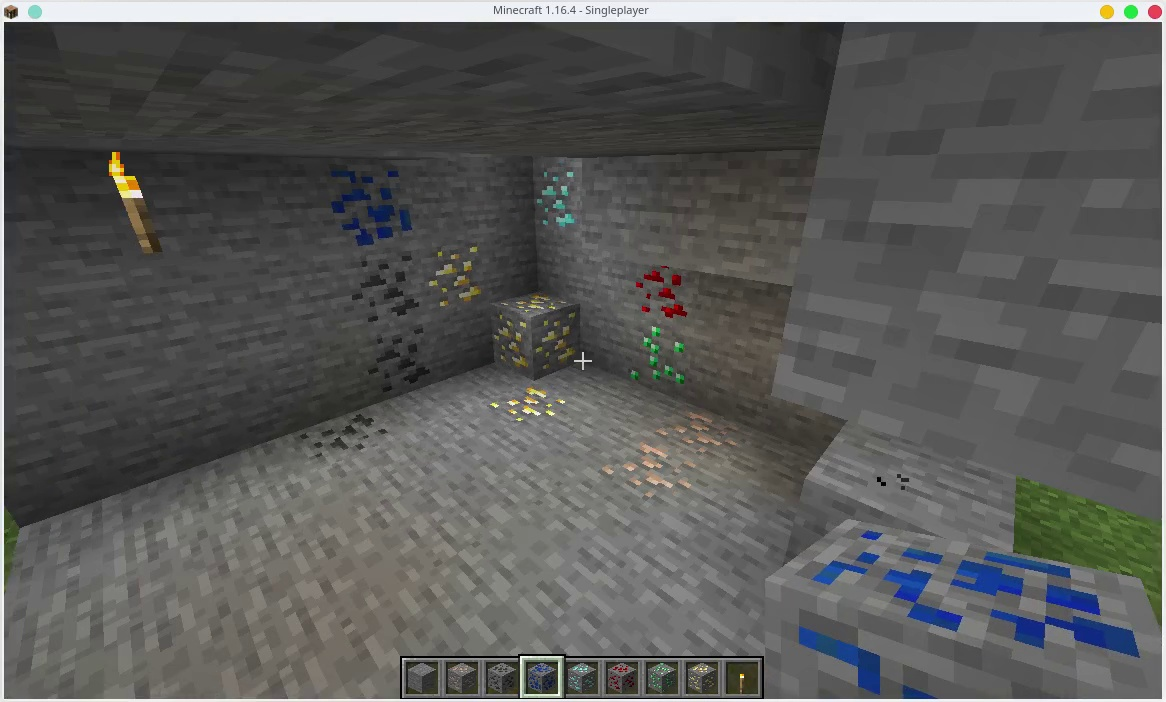gold: (490, 298, 587, 376), (420, 244, 489, 311), (478, 382, 571, 422), (688, 660, 715, 693)
